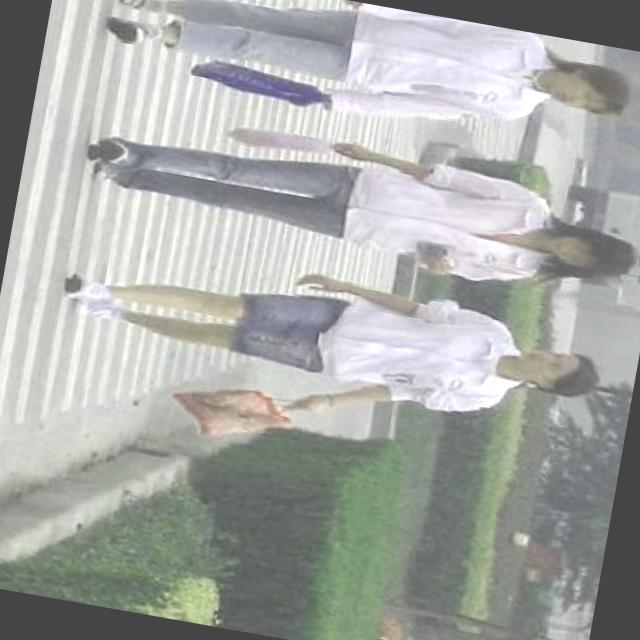Person: (32, 223, 610, 464), (68, 93, 640, 305), (91, 0, 640, 167)
